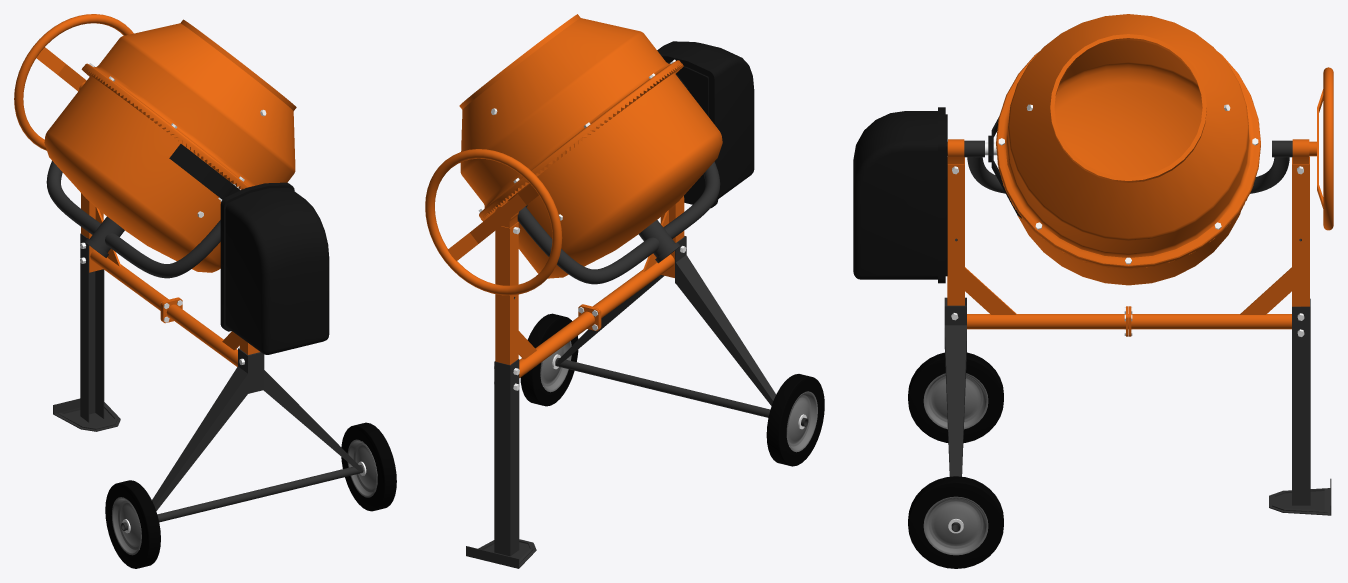
File: drum-mixer-portable.glb
The picture shows the model from 3 angles, left to right: view 1: azimuth 30°, elevation 25°; view 2: azimuth 150°, elevation 25°; view 3: azimuth 270°, elevation 25°; orthographic projection. The views are drawn at different scales.
Parts seen in each view (by area): view 1: Object_8, Object_2, Object_6, Object_4, Object_5, Object_3, Object_7; view 2: Object_8, Object_6, Object_2, Object_4, Object_5, Object_7; view 3: Object_8, Object_2, Object_6, Object_4, Object_5, Object_7.
Part boxes in pixels (bbox=[...]): Object_8: bbox=[14, 14, 296, 366]; Object_2: bbox=[220, 182, 329, 354]; Object_6: bbox=[46, 161, 363, 530]; Object_4: bbox=[105, 422, 396, 568]; Object_5: bbox=[112, 439, 377, 555]; Object_3: bbox=[169, 144, 240, 199]; Object_7: bbox=[80, 63, 366, 533]; Object_8: bbox=[425, 14, 722, 377]; Object_6: bbox=[466, 162, 808, 568]; Object_2: bbox=[657, 41, 754, 208]; Object_4: bbox=[520, 313, 824, 466]; Object_5: bbox=[540, 341, 817, 452]; Object_7: bbox=[478, 59, 806, 429]; Object_8: bbox=[947, 14, 1333, 336]; Object_2: bbox=[853, 107, 947, 283]; Object_6: bbox=[944, 140, 1331, 531]; Object_4: bbox=[908, 352, 1003, 568]; Object_5: bbox=[923, 373, 988, 555]; Object_7: bbox=[948, 104, 1304, 533].
Bounding box in the file's own units: 0.7594 × 1.26 × 1.14.
